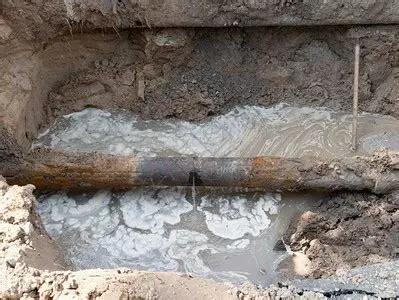pipe burst: (190, 175, 198, 219)
water accumulation: (33, 102, 399, 286)
